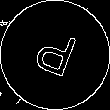P_S: (29, 25, 81, 85)
